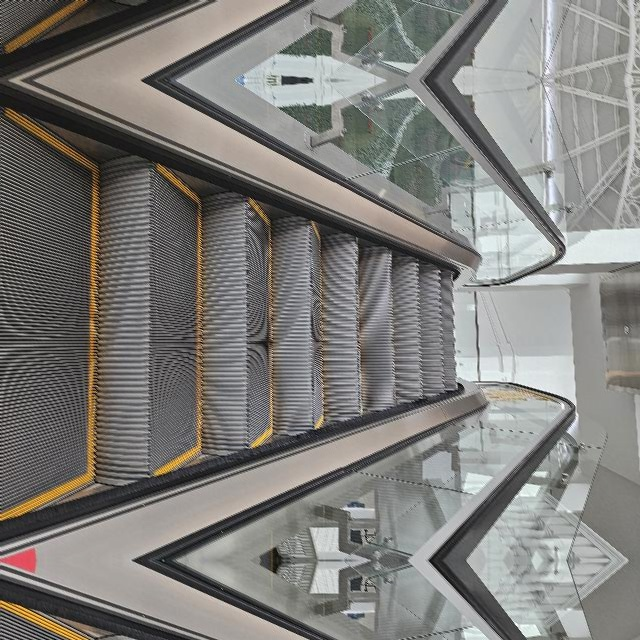stair: (181, 243, 602, 640), (181, 403, 602, 640)
